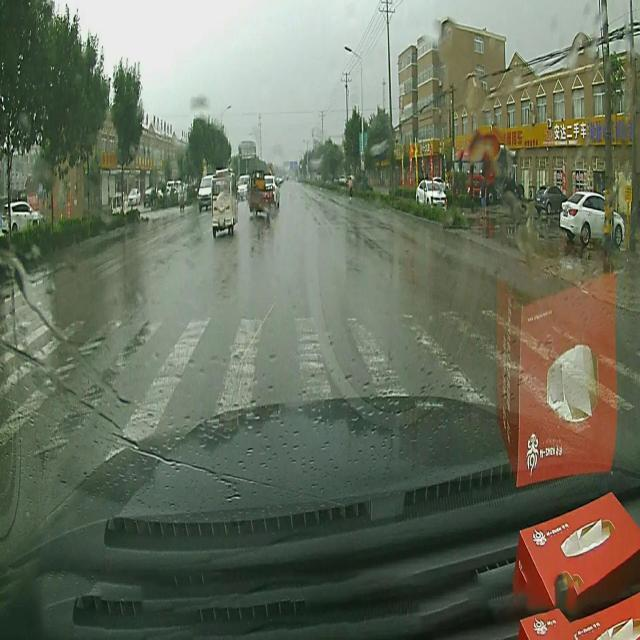car: (560, 190, 626, 244), (1, 200, 40, 242), (415, 178, 448, 210), (536, 184, 570, 213), (197, 174, 212, 211)
